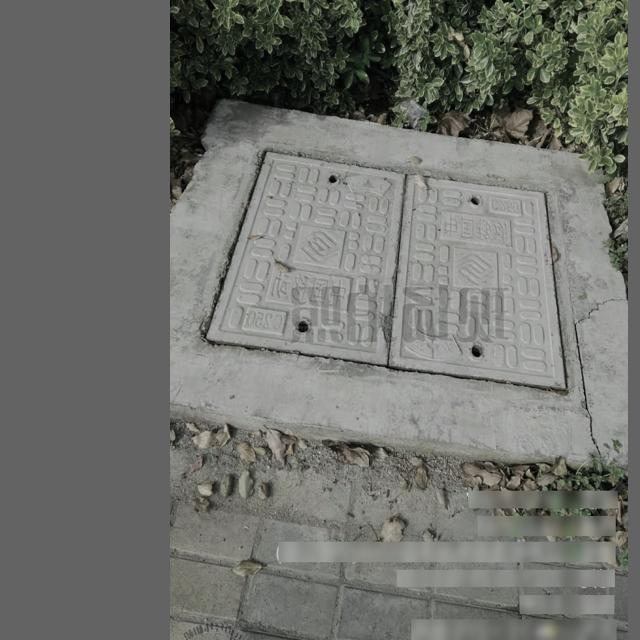good: (181, 159, 586, 397)
